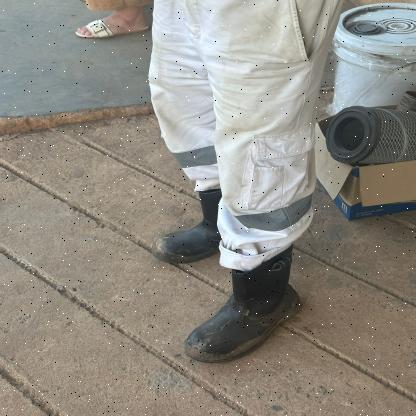bota: (186, 247, 308, 363), (152, 190, 224, 262)
